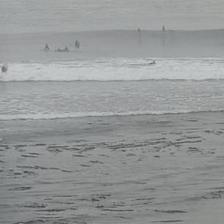surfer: (55, 47, 69, 52), (0, 65, 7, 73), (74, 40, 80, 47), (44, 44, 50, 50), (149, 60, 156, 65), (137, 28, 141, 33), (162, 26, 166, 31)
